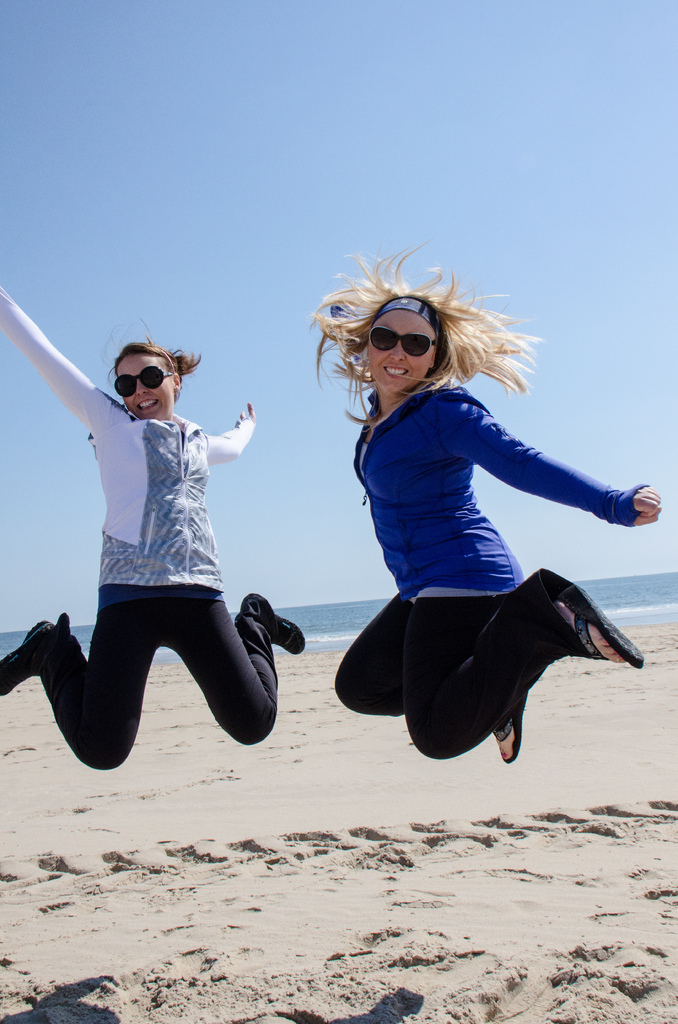Footwear: (555, 579, 645, 669), (237, 593, 303, 659), (0, 617, 55, 696), (496, 691, 528, 764)
